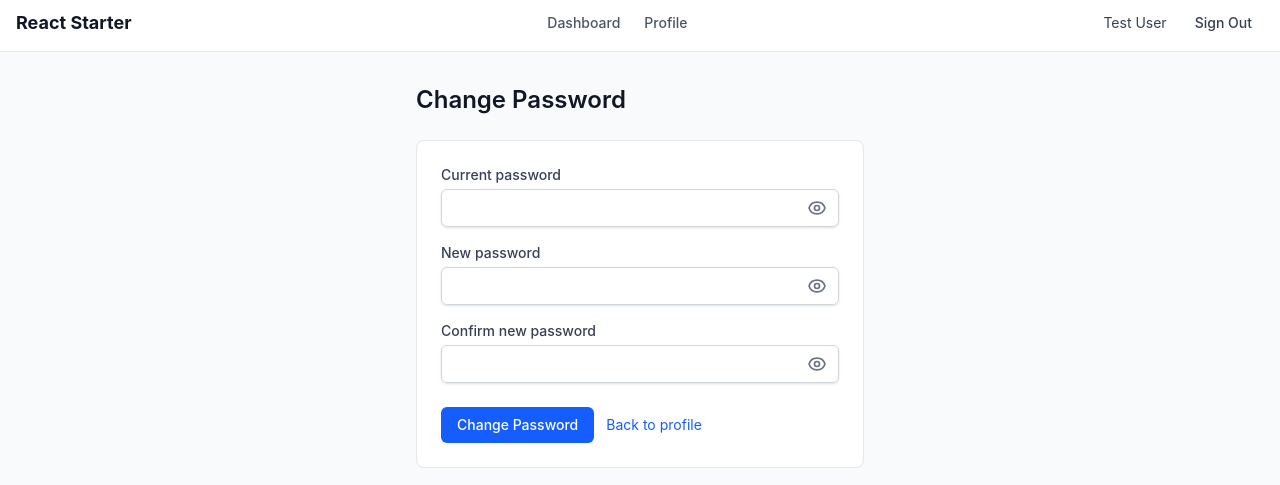
ChangePasswordPage › redirects to /profile on success
The width and height of the screenshot is (1280, 485).
Type "oldpassword" into the password field labelled "Current password" at (640, 208), box 441,189 -> 839,227
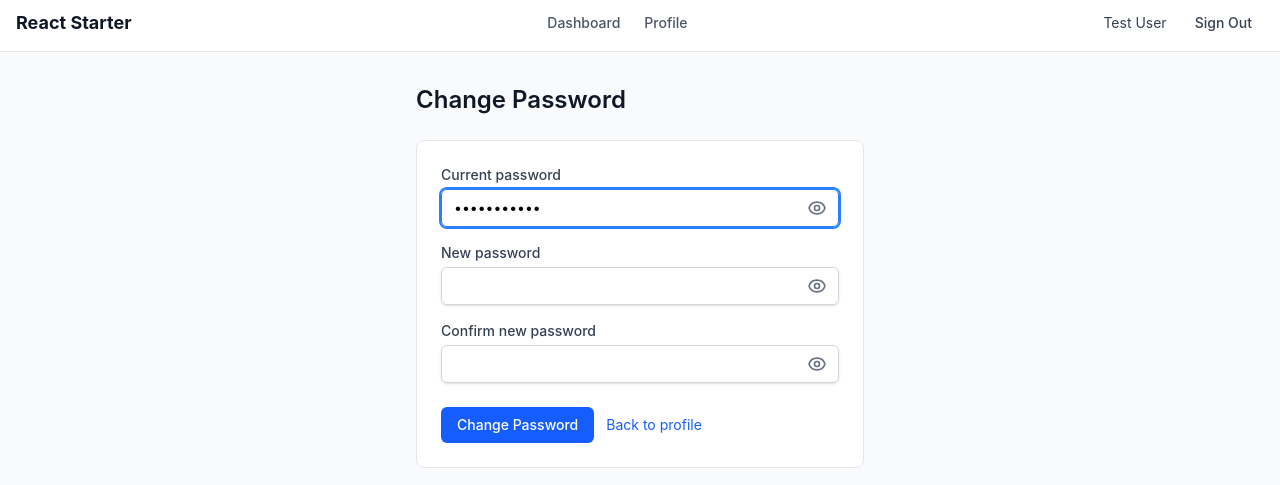
Type "newpassword1" into the password field labelled "New password" at (640, 286), box 441,267 -> 839,305
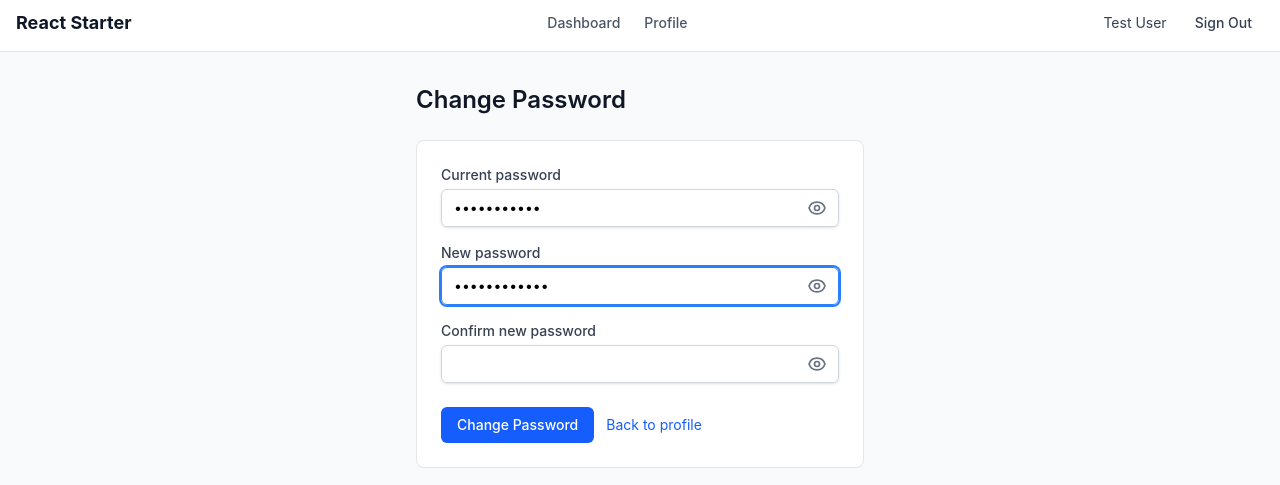
Type "newpassword1" into the password field labelled "Confirm new password" at (640, 364), box 441,345 -> 839,383
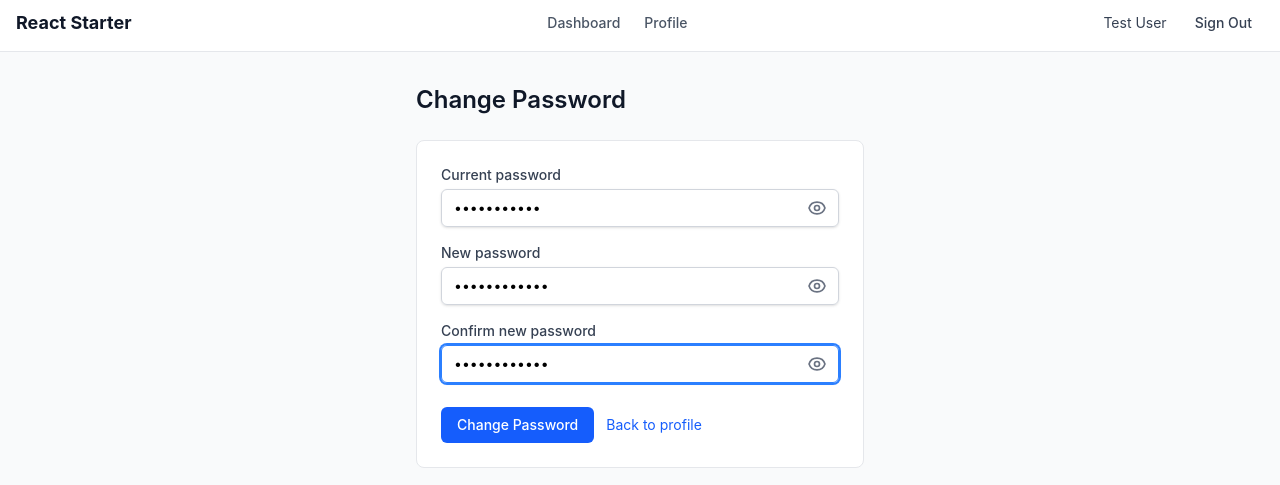
Click the button "Change Password" at (518, 425), box 441,407 -> 594,443
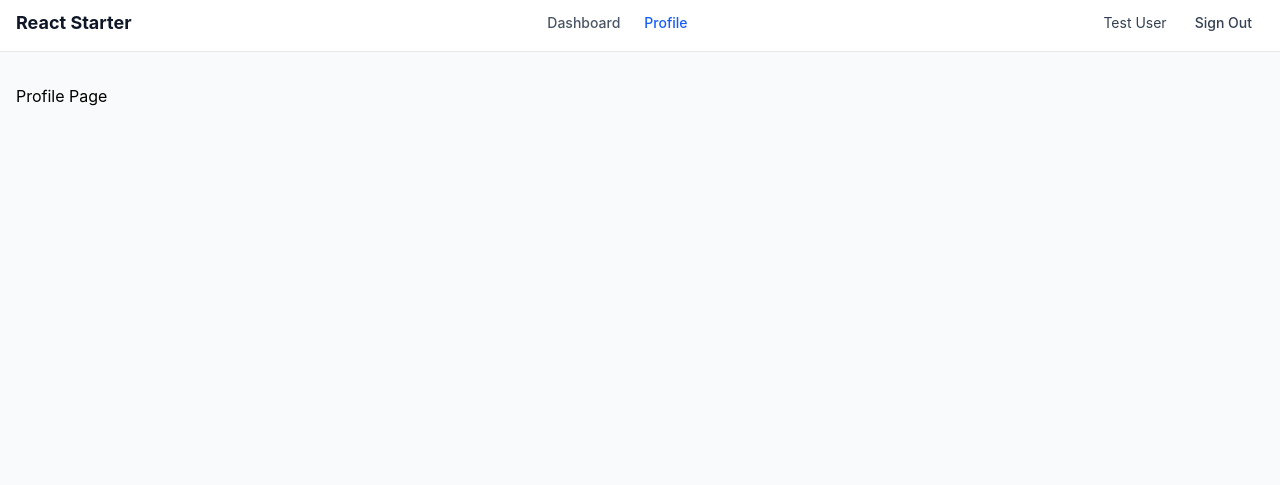
Check: the text "Profile Page" is shown, box 16,86 -> 107,106
